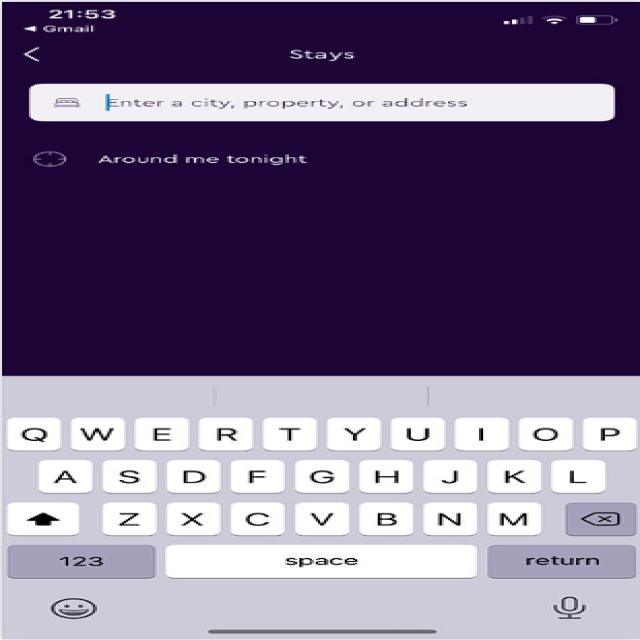icon button: (9, 30, 80, 66)
input: (18, 68, 640, 136)
spacer: (21, 185, 608, 364)
text: (18, 147, 382, 175)
